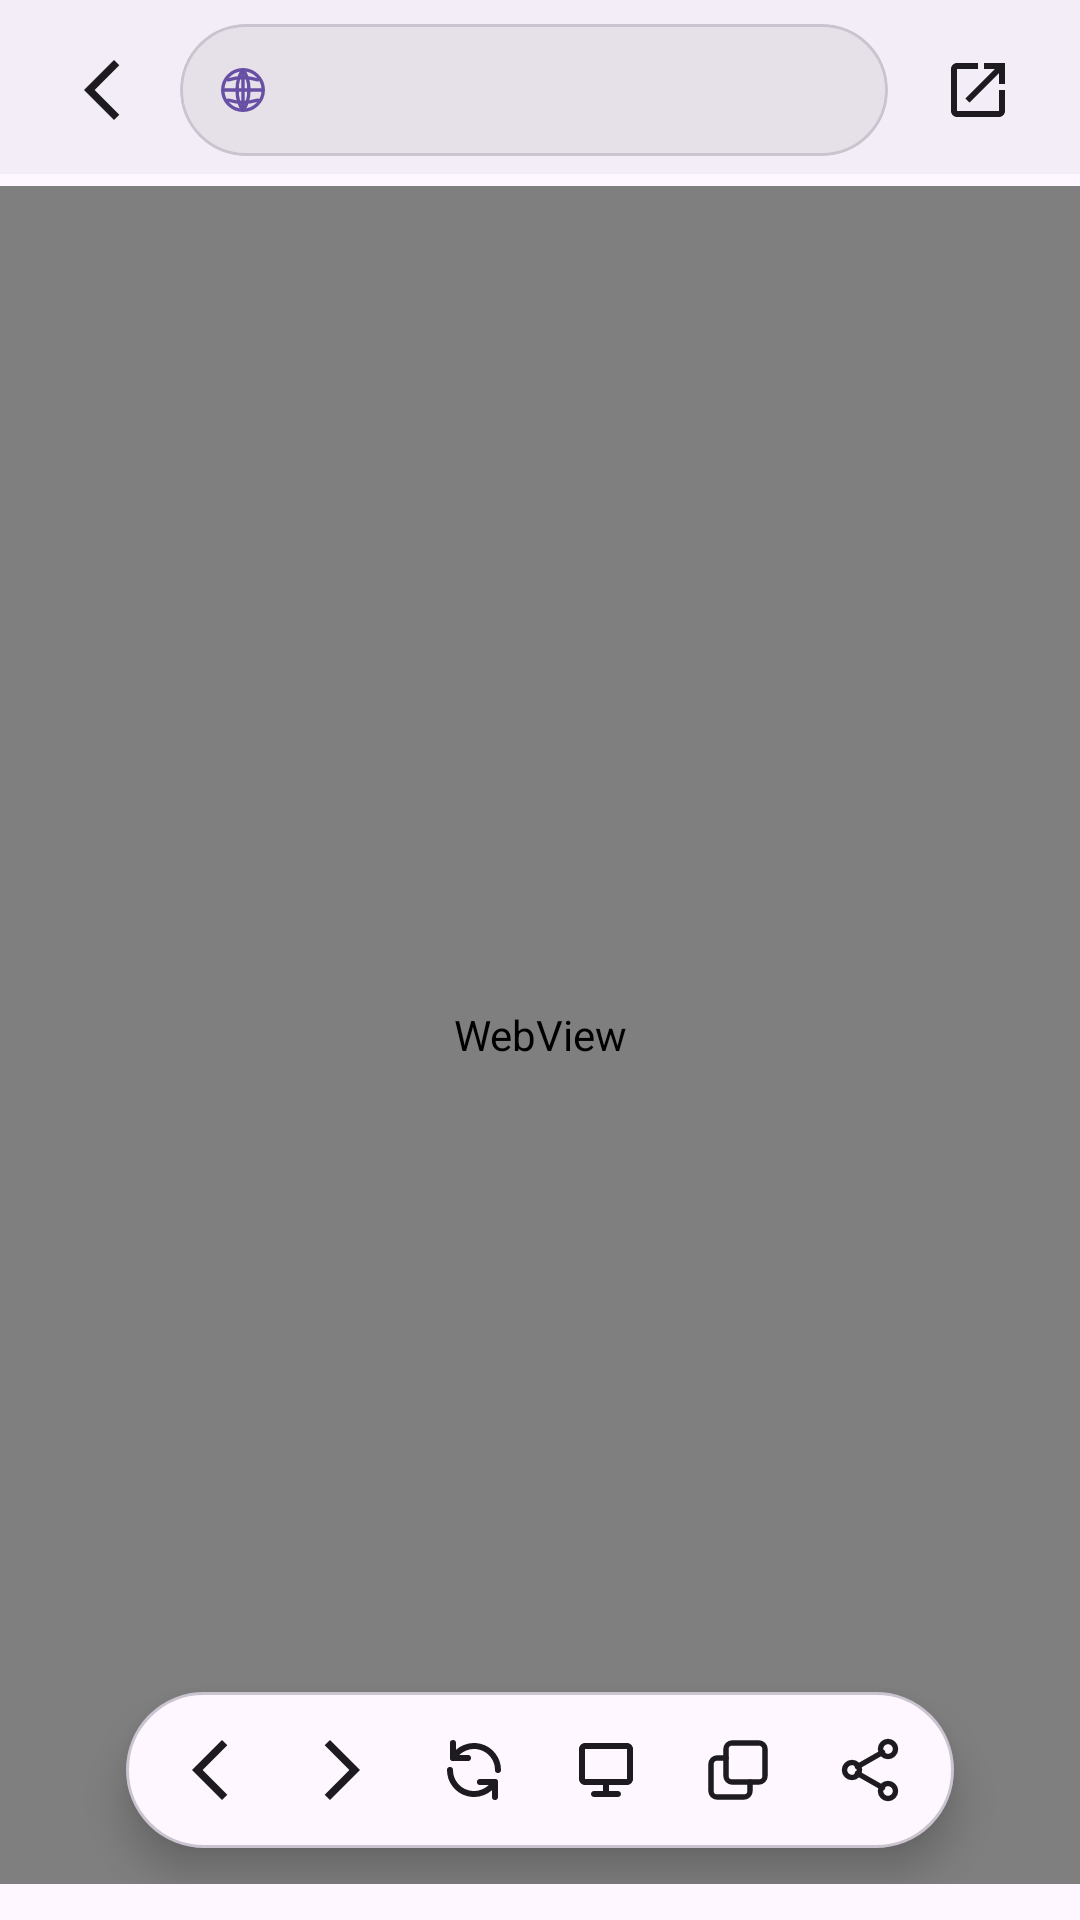

Where icons sit on this 1080x1920 app screen, as (x1, y1, x2, y2):
Copy page link: (708, 1740, 768, 1800)
Enable desktop mode: (579, 1743, 633, 1797)
Go back: (84, 60, 119, 120), (192, 1740, 227, 1800)
language: (221, 68, 265, 112)
Open in external browser: (951, 63, 1005, 117)
Reload page: (447, 1740, 501, 1800)
Share page: (841, 1738, 899, 1802)
